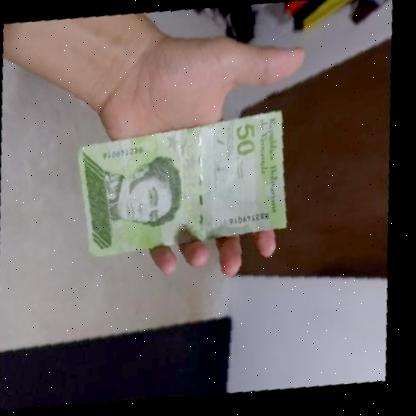fifty-front-vef: (72, 110, 297, 259)
